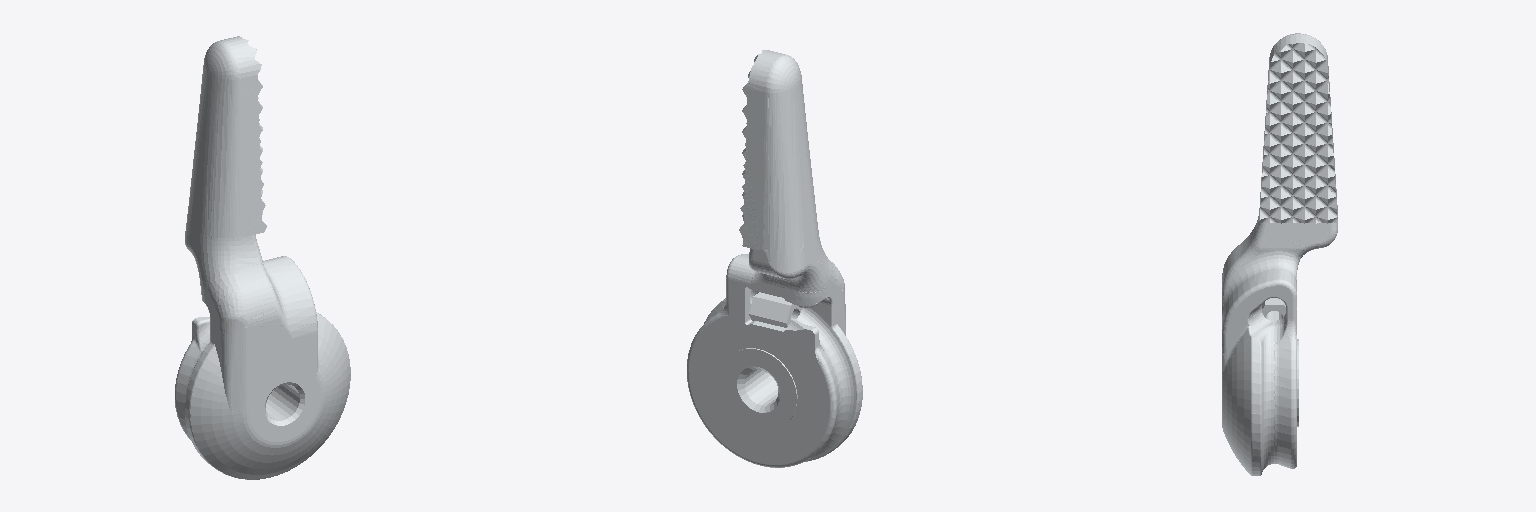
The model's file is gripper_left.OBJ.
The picture shows the model from 3 angles: view 1: azimuth 30°, elevation 25°; view 2: azimuth 150°, elevation 25°; view 3: azimuth 270°, elevation 25°; orthographic projection.
Parts seen in each view (by area): view 1: gripper_left_Shape_IndexedFaceSet.006; view 2: gripper_left_Shape_IndexedFaceSet.006; view 3: gripper_left_Shape_IndexedFaceSet.006.
Boxes of the visible parts, <box> form: gripper_left_Shape_IndexedFaceSet.006: <box>175,36,350,479</box>; gripper_left_Shape_IndexedFaceSet.006: <box>687,50,862,467</box>; gripper_left_Shape_IndexedFaceSet.006: <box>1222,33,1337,475</box>.
Bounding box in the file's own units: 0.0048 × 0.0121 × 0.003.